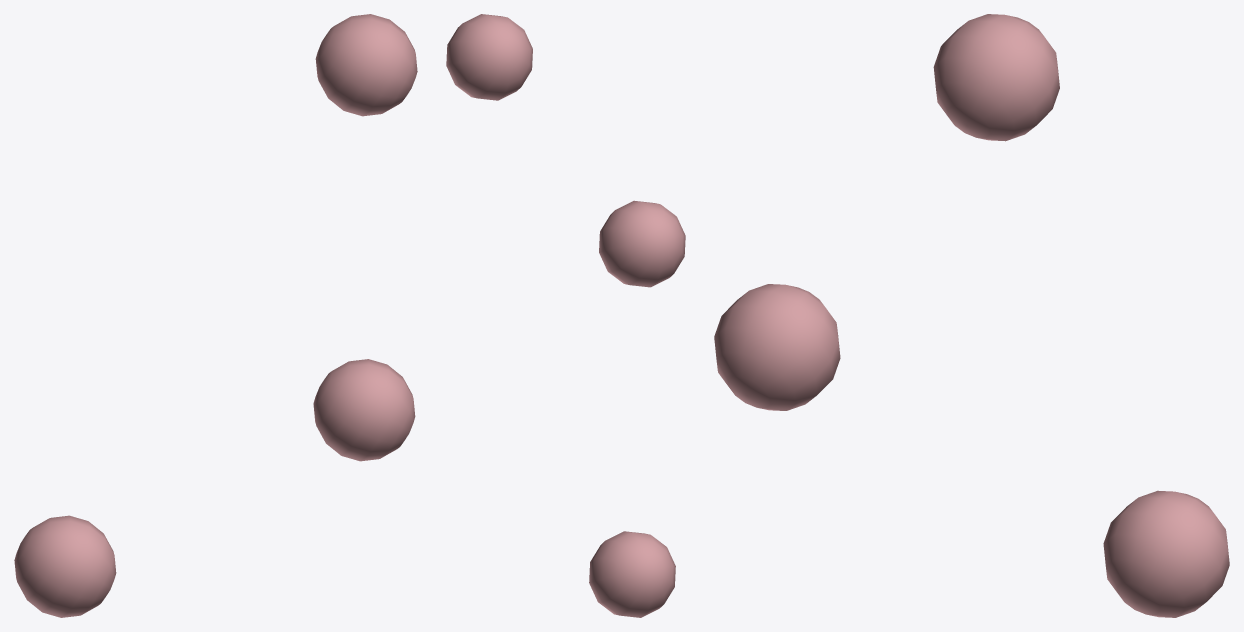
3 renders of one model, left to right at view 1: azimuth 30°, elevation 25°; view 2: azimuth 150°, elevation 25°; view 3: azimuth 270°, elevation 25°, orthographic. The views are drawn at different scales.
Parts seen in each view (by area): view 1: ZA_07683e4bf37f4ad8; view 2: ZA_07683e4bf37f4ad8; view 3: ZA_07683e4bf37f4ad8.
Part boxes in pixels (x1,y1,x2,y2): ZA_07683e4bf37f4ad8: (14, 14, 417, 617); ZA_07683e4bf37f4ad8: (446, 14, 685, 617); ZA_07683e4bf37f4ad8: (714, 14, 1229, 617).
Bounding box in the file's own units: 0.00942 × 0.0164 × 0.0104.
